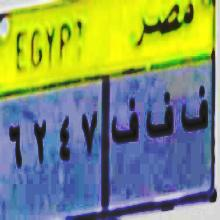2: (33, 115, 48, 167)
4: (60, 112, 72, 164)
6: (8, 118, 24, 176)
7: (82, 111, 98, 158)
faa: (178, 82, 208, 141), (144, 86, 174, 144), (109, 91, 139, 149)
